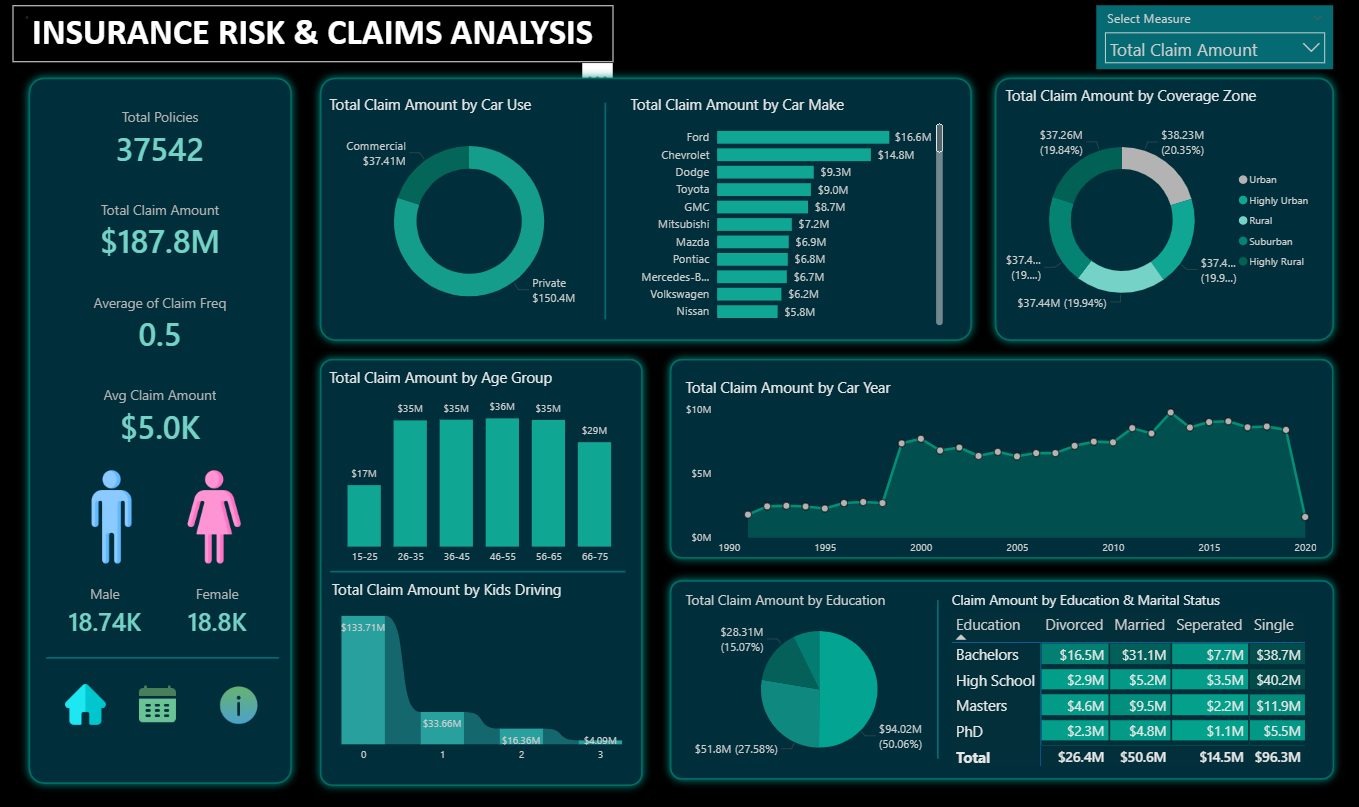

The page's visual inventory and layout, read from the dashboard file:
{"tool":"powerbi","page":{"name":"Page 1","canvas":[1600,950],"ordinal":0},"visuals":[{"type":"textbox","box":[14.3,8,706.8,66.9],"z":0},{"type":"shape","box":[23.9,82.8,329.5,850],"z":1000},{"type":"cardVisual","fields":{"Data":["insurance_data_car.Total Policies","insurance_data_car.Total Claim Amount","Avg(insurance_data_car.Claim Freq)","insurance_data_car.Avg Claim Amount"]},"box":[50.9,111.4,273.8,433],"z":2000},{"type":"cardVisual","fields":{"Data":["insurance_data_car.Male Count","insurance_data_car.Female Count"]},"box":[60.5,663.8,259.5,109.8],"z":3000},{"type":"image","box":[76.4,554,109.8,109.8],"z":4000},{"type":"image","box":[197.4,554,109.8,109.8],"z":5000},{"type":"slicer","fields":{"Values":["Select Measure.Select Measure"]},"box":[1287.8,8,278.6,74.8],"z":6000},{"type":"shape","box":[366.1,82.8,786.4,329.5],"z":7000},{"type":"donutChart","fields":{"Y":["insurance_data_car.Total Claim Amount"],"Category":["insurance_data_car.Car Use"]},"box":[382,111.4,339.1,277],"z":8000},{"type":"clusteredBarChart","fields":{"Y":["insurance_data_car.Total Claim Amount"],"Category":["insurance_data_car.Car Make"]},"box":[735.4,111.4,377.3,277],"z":9000},{"type":"shape","box":[1158.9,82.8,418.7,329.5],"z":10000},{"type":"donutChart","fields":{"Y":["insurance_data_car.Total Claim Amount"],"Category":["insurance_data_car.Coverage Zone"]},"box":[1176.4,101.9,375.7,294.5],"z":11000},{"type":"shape","box":[366.1,412.3,399.5,522.1],"z":12000},{"type":"clusteredColumnChart","fields":{"Y":["insurance_data_car.Total Claim Amount"],"Category":["insurance_data_car.Age Group"]},"box":[382,433,364.5,240.4],"z":13000},{"type":"ribbonChart","fields":{"Y":["insurance_data_car.Total Claim Amount"],"Category":["insurance_data_car.Kids Driving"]},"box":[385.2,681.3,362.9,224.4],"z":14000},{"type":"shape","box":[776.8,412.3,800,255],"z":15000},{"type":"areaChart","fields":{"Y":["insurance_data_car.Total Claim Amount"],"Category":["insurance_data_car.Car Year"]},"box":[800.7,445.7,751.3,218.1],"z":16000},{"type":"shape","box":[776.8,673.3,800.7,254.7],"z":17000},{"type":"pieChart","fields":{"Y":["insurance_data_car.Total Claim Amount"],"Category":["insurance_data_car.Education"]},"box":[800.7,694,324.7,211.7],"z":18000},{"type":"pivotTable","title":"Claim Amount by Education & Marital Status","fields":{"Rows":["insurance_data_car.Education"],"Columns":["insurance_data_car.Marital Status"],"Values":["insurance_data_car.Total Claim Amount"]},"box":[1112.7,694,439.3,211.7],"z":19000},{"type":"shape","box":[687.7,122.6,47.8,254.7],"z":20000},{"type":"shape","box":[1077.7,706.8,47.8,186.2],"z":21000},{"type":"shape","box":[388.4,652.7,347,41.4],"z":22000},{"type":"shape","box":[54.1,752.9,273.8,41.4],"z":23000},{"type":"image","box":[76.4,805.5,47.8,47.8],"z":24000},{"type":"image","box":[160.8,803.9,49.3,49.3],"z":25000},{"type":"image","box":[254.7,803.9,52.5,52.5],"z":26000}]}

Visuals, with their boxes in screenshot pixels (x1, y1, x2, y2), scaled from the page's 1600x950 canvas onto the 1359x807 screenshot:
textbox: region(12, 7, 612, 64)
shape: region(20, 70, 300, 792)
cardVisual - insurance_data_car.Total Policies x insurance_data_car.Total Claim Amount: region(43, 95, 276, 462)
cardVisual - insurance_data_car.Male Count x insurance_data_car.Female Count: region(51, 564, 272, 657)
image: region(65, 471, 158, 564)
image: region(168, 471, 261, 564)
slicer - Select Measure.Select Measure: region(1094, 7, 1330, 70)
shape: region(311, 70, 979, 350)
donutChart - insurance_data_car.Total Claim Amount x insurance_data_car.Car Use: region(324, 95, 612, 330)
clusteredBarChart - insurance_data_car.Total Claim Amount x insurance_data_car.Car Make: region(625, 95, 945, 330)
shape: region(984, 70, 1340, 350)
donutChart - insurance_data_car.Total Claim Amount x insurance_data_car.Coverage Zone: region(999, 87, 1318, 337)
shape: region(311, 350, 650, 794)
clusteredColumnChart - insurance_data_car.Total Claim Amount x insurance_data_car.Age Group: region(324, 368, 634, 572)
ribbonChart - insurance_data_car.Total Claim Amount x insurance_data_car.Kids Driving: region(327, 579, 635, 769)
shape: region(660, 350, 1339, 567)
areaChart - insurance_data_car.Total Claim Amount x insurance_data_car.Car Year: region(680, 379, 1318, 564)
shape: region(660, 572, 1340, 788)
pieChart - insurance_data_car.Total Claim Amount x insurance_data_car.Education: region(680, 590, 956, 769)
"Claim Amount by Education & Marital Status" pivotTable: region(945, 590, 1318, 769)
shape: region(584, 104, 625, 321)
shape: region(915, 600, 956, 759)
shape: region(330, 554, 625, 590)
shape: region(46, 640, 279, 675)
image: region(65, 684, 105, 725)
image: region(137, 683, 178, 725)
image: region(216, 683, 261, 727)
